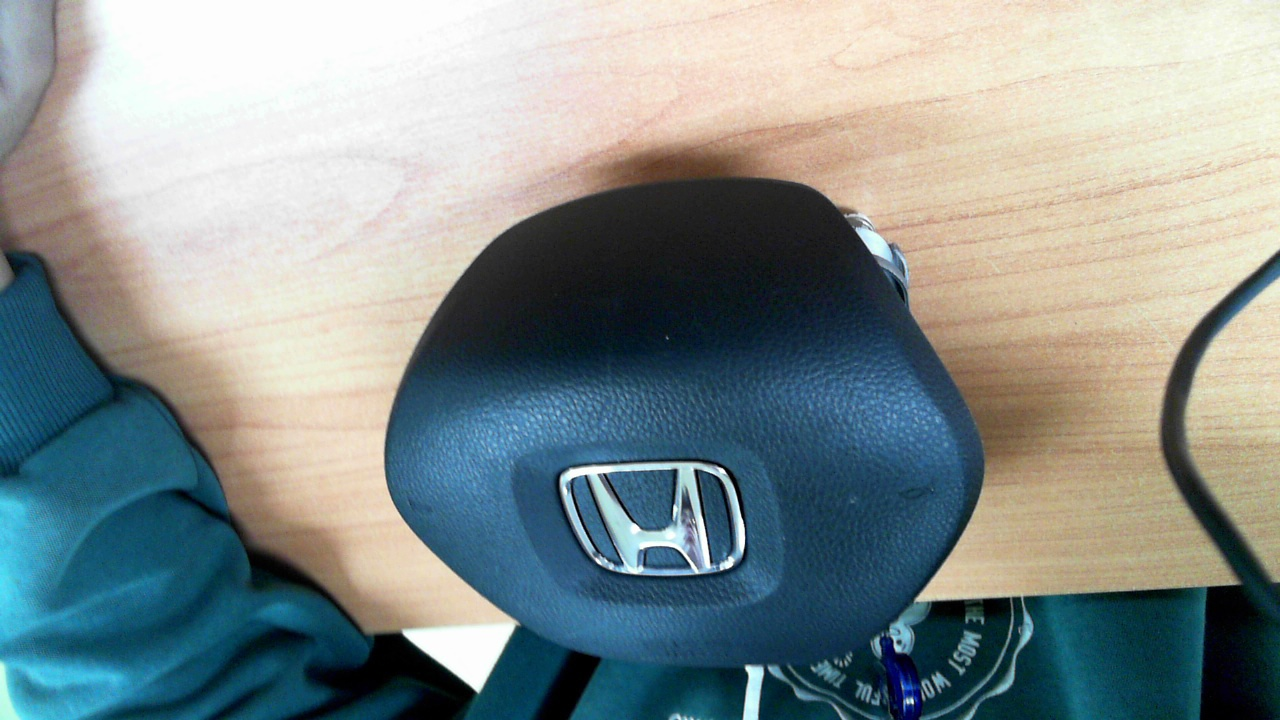Airbag: (383, 176, 987, 666)
Honda: (558, 460, 746, 577)
